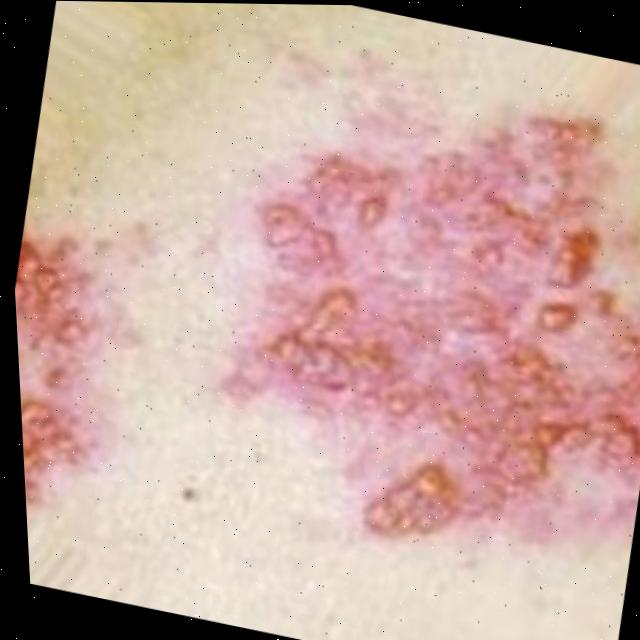Shingles: (0, 7, 640, 625)
